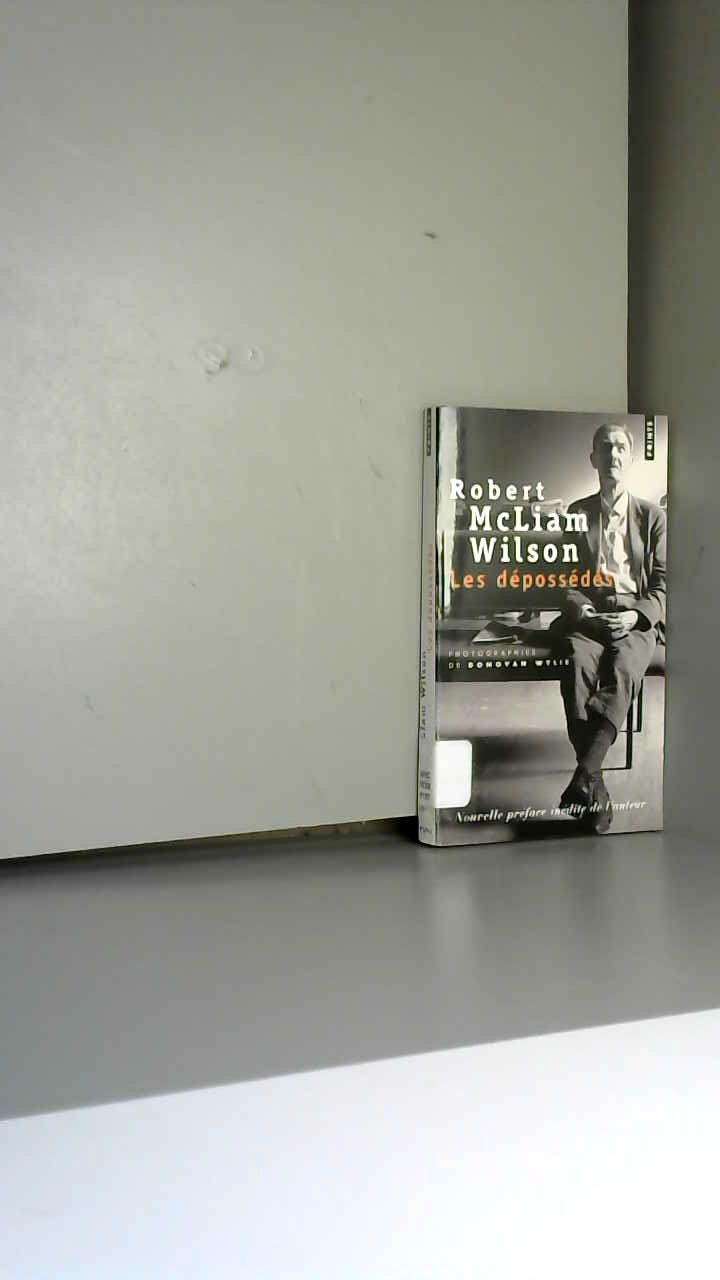book: (390, 380, 720, 875)
